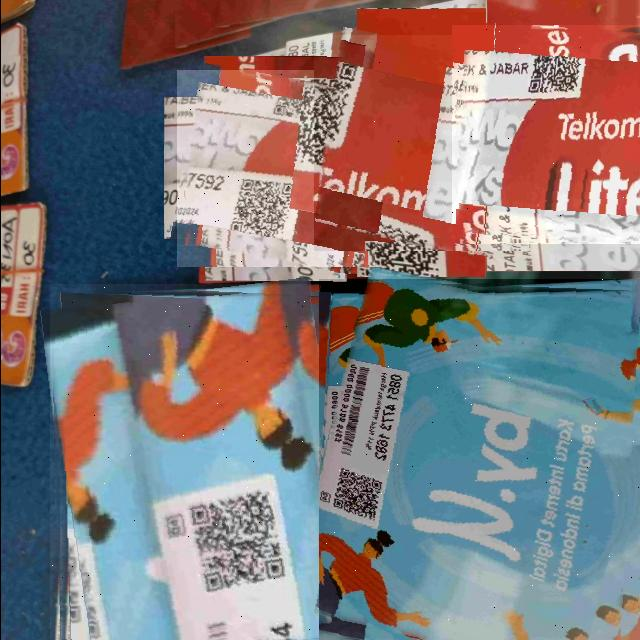Telkomsel: (313, 35, 528, 251), (451, 25, 640, 244), (176, 70, 374, 267)
byu: (318, 279, 640, 640), (49, 284, 340, 640)
